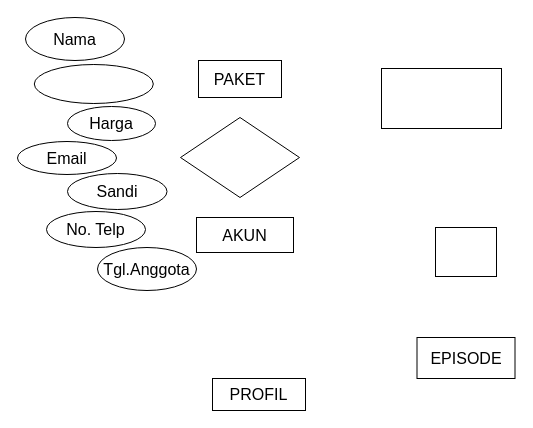
Some shapes in this 533 by 428 pixel diagram are drawn without their labels. The centre of each missing label's shape, as x and y in pixels:
Berlangganan: (x=240, y=157)
Deskripsi: (x=93, y=84)
METODE PEMBAYARAN: (x=441, y=98)
VIDEO: (x=465, y=251)
